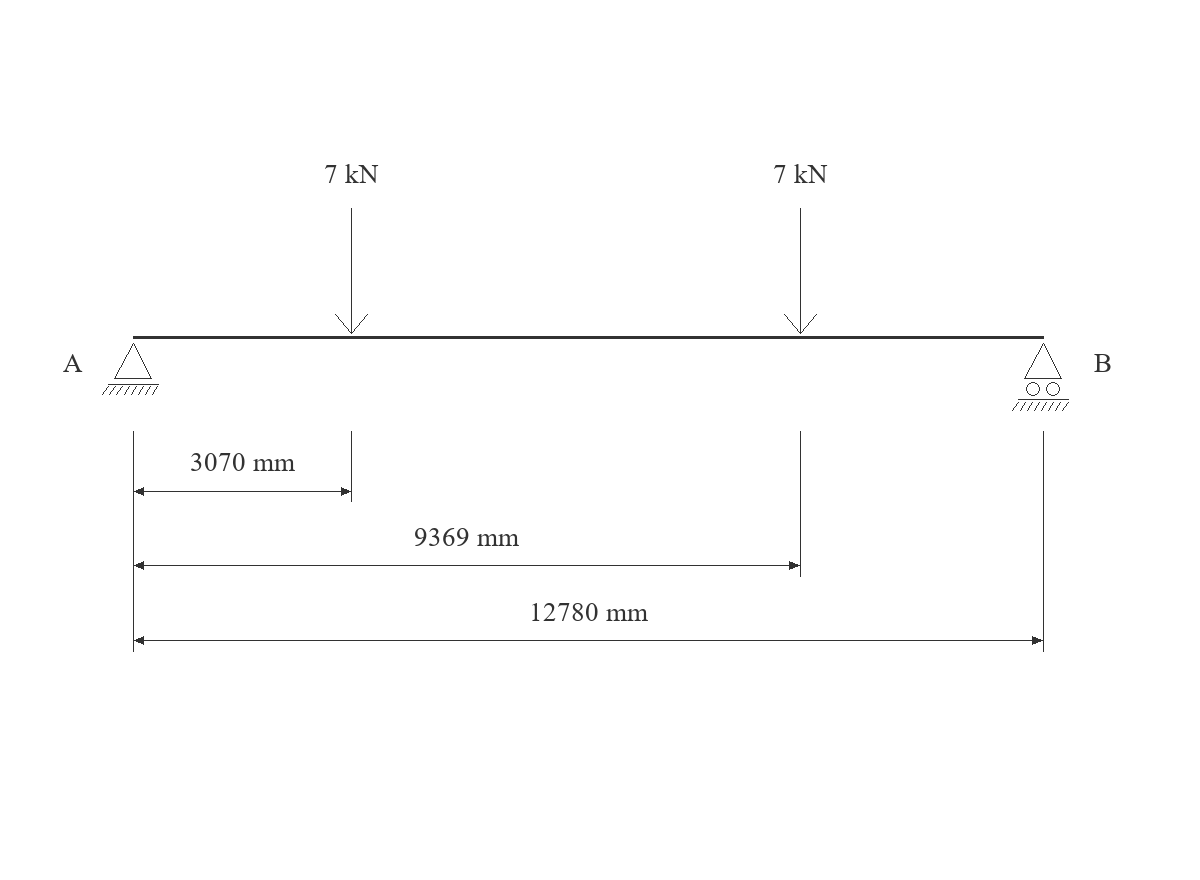pin_support: (102, 343, 159, 395)
point_load: (335, 208, 368, 334), (784, 208, 817, 334)
roller_support: (1012, 343, 1069, 411)
